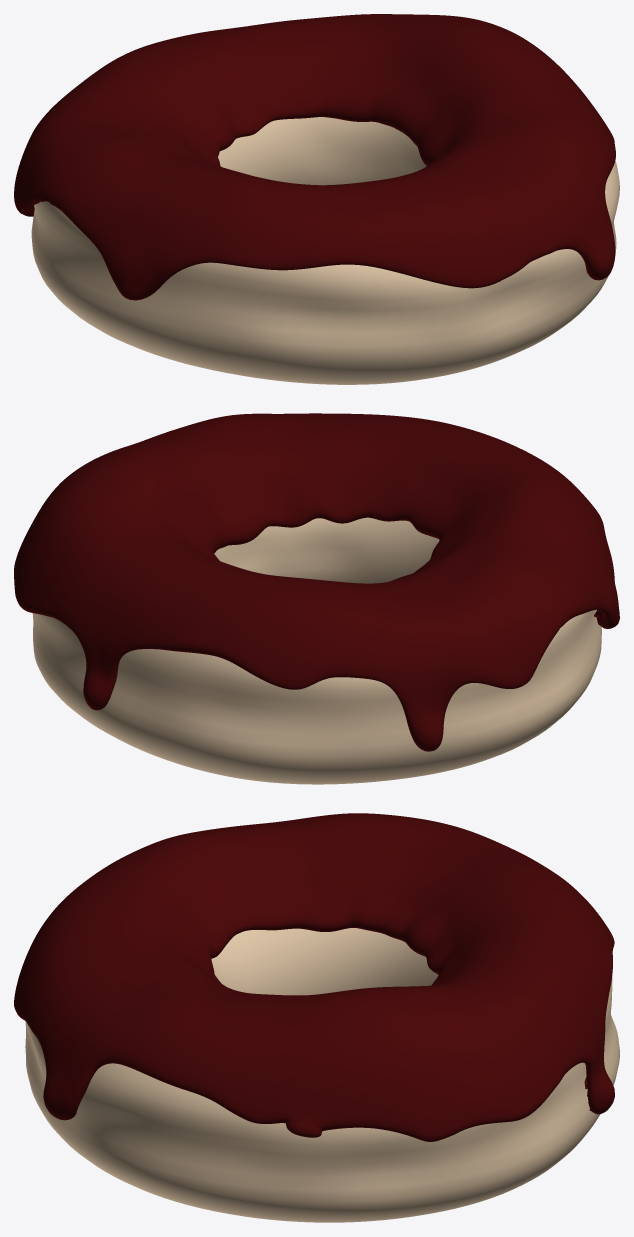
File: Donut.fbx
The picture shows the model from 3 angles, top to bottom: view 1: azimuth 30°, elevation 25°; view 2: azimuth 150°, elevation 25°; view 3: azimuth 270°, elevation 25°; orthographic projection. The views are drawn at different scales.
Parts seen in each view (by area): view 1: Icing, Donut; view 2: Icing, Donut; view 3: Icing, Donut.
Part boxes in pixels (x1,y1,x2,y2): Icing: (14, 14, 615, 300); Donut: (31, 117, 619, 384); Icing: (14, 413, 619, 751); Donut: (32, 517, 601, 784); Icing: (14, 813, 614, 1141); Donut: (25, 928, 619, 1222).
Bounding box in the file's own units: 11.41 × 4.24 × 10.85.
